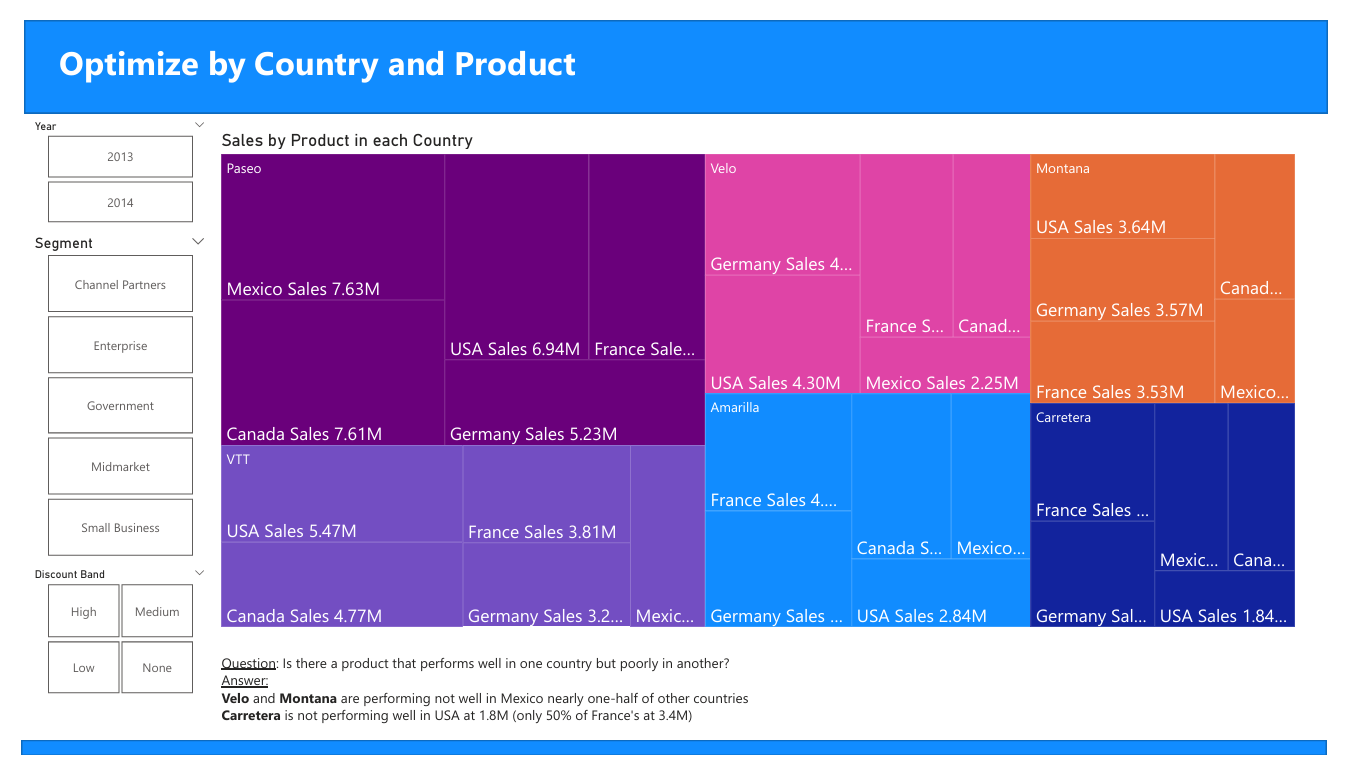

Layout of this report page (visuals, bound fields, positions):
{"tool":"powerbi","page":{"name":"Product performance","canvas":[1280,720],"ordinal":3},"visuals":[{"type":"group","id":"g1","title":"PageDesign","box":[0,0,1280.4,720.5],"z":0},{"type":"shape","box":[0,706.2,1278.9,14.3],"z":0,"group":"g1"},{"type":"shape","box":[3.2,0,1277.3,90.7],"z":500,"group":"g1"},{"type":"slicer","fields":{"Values":["Calendar.Calendar Hierarchy.Year"]},"box":[0,91.7,191.7,113.3],"z":1000},{"type":"slicer","fields":{"Values":["Financial Data.Segment"]},"box":[0,205,191.7,326.7],"z":2000},{"type":"slicer","fields":{"Values":["Financial Data.Discount Band"]},"box":[0,531.7,191.7,135],"z":3000},{"type":"textbox","title":"Title","box":[22.3,20.7,502.6,49.3],"z":4000},{"type":"textbox","box":[190.8,616.3,784.4,89.3],"z":5000},{"type":"treemap","title":"Sales by Product in each Country","fields":{"Group":["Financial Data.Product"],"Values":["Separate Sales by Country.Mexico Sales","Separate Sales by Country.USA Sales","Separate Sales by Country.Canada Sales","Separate Sales by Country.France Sales","Separate Sales by Country.Germany Sales"]},"box":[190.9,106.6,1062.5,493.1],"z":6000},{"type":"pageNavigator","box":[639,0,641,90.7],"z":7000}]}

Visuals, with their boxes in screenshot pixels (x1, y1, x2, y2), scaled from the page's 1280x720 canvas onto the 1350x776 screenshot:
"PageDesign" group: box=[0, 0, 1349, 775]
shape: box=[0, 761, 1349, 775]
shape: box=[3, 0, 1349, 98]
slicer - Calendar.Calendar Hierarchy.Year: box=[0, 99, 202, 221]
slicer - Financial Data.Segment: box=[0, 221, 202, 573]
slicer - Financial Data.Discount Band: box=[0, 573, 202, 719]
"Title" textbox: box=[24, 22, 554, 75]
textbox: box=[201, 664, 1029, 760]
"Sales by Product in each Country" treemap: box=[201, 115, 1322, 646]
pageNavigator: box=[674, 0, 1349, 98]
